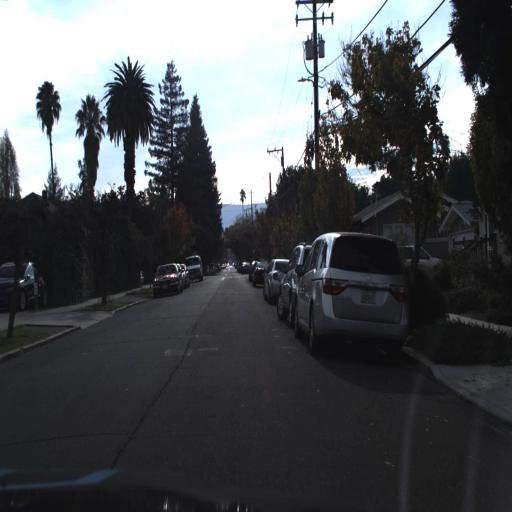car: (291, 227, 412, 358), (270, 235, 318, 327), (0, 258, 50, 310), (275, 236, 305, 320), (261, 255, 290, 307), (148, 264, 178, 297), (252, 260, 269, 290), (183, 252, 203, 276)
